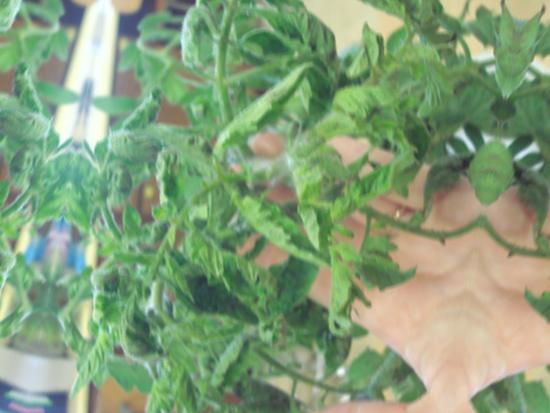Tomato leaf mosaic virus: (208, 50, 312, 175), (212, 176, 342, 265), (331, 147, 402, 231), (193, 244, 288, 306), (123, 81, 169, 140), (255, 0, 315, 16)
